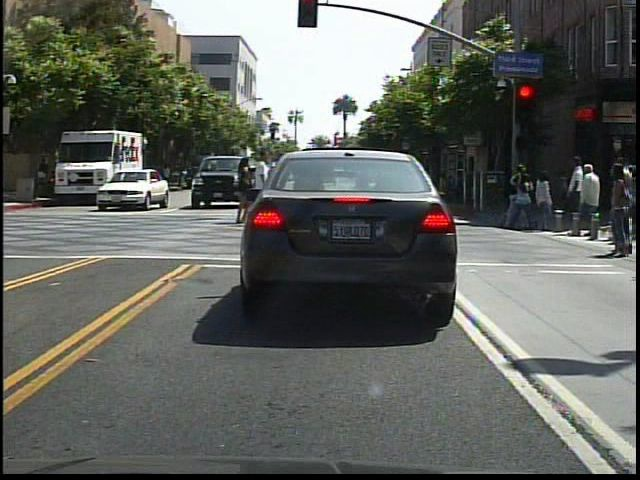person: (569, 160, 608, 253), (348, 157, 381, 220), (233, 150, 258, 228)
